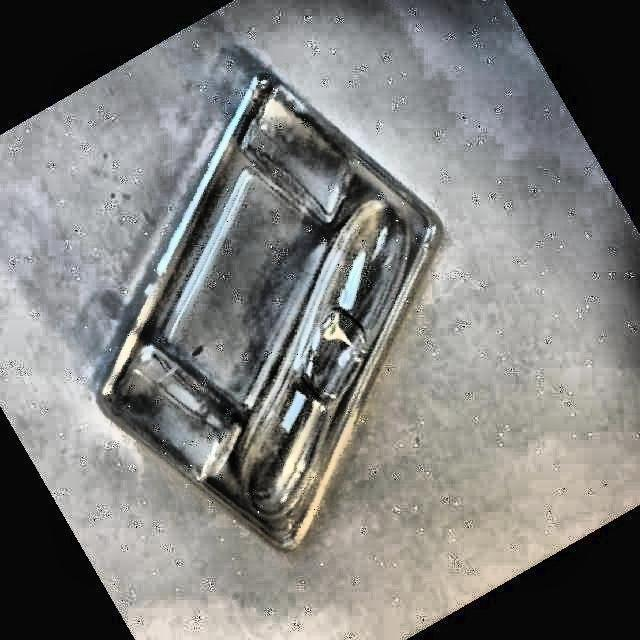plastic: (100, 74, 440, 548)
